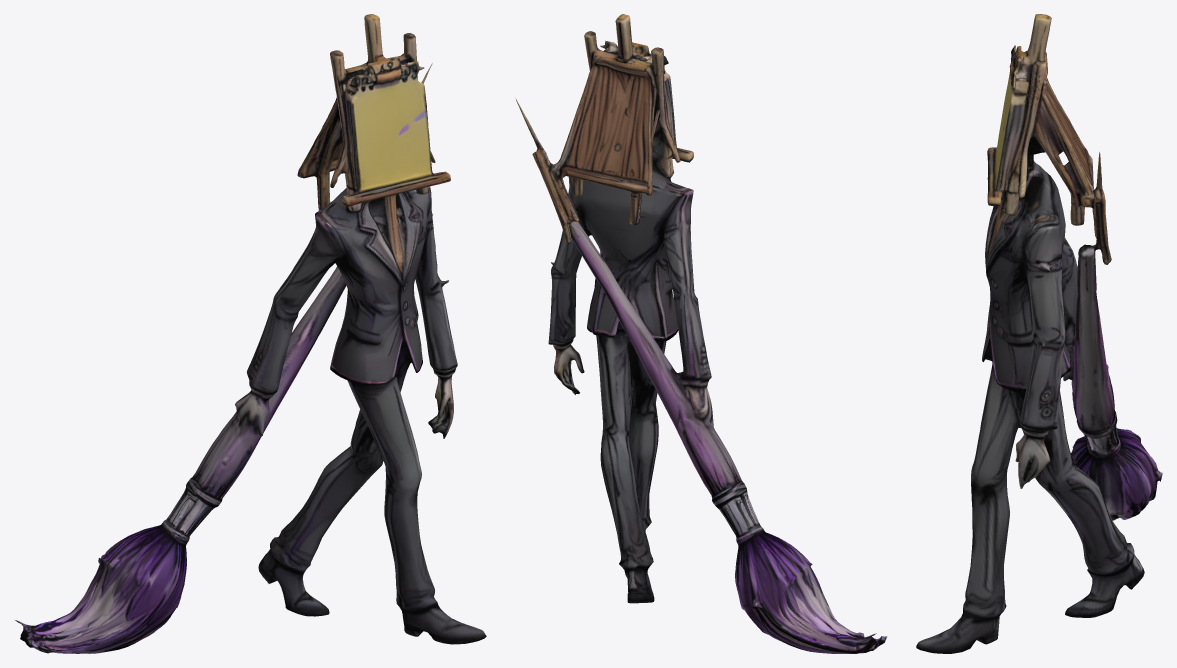
File: Curator_Vance.glb
3 renders of one model, left to right at view 1: azimuth 30°, elevation 25°; view 2: azimuth 150°, elevation 25°; view 3: azimuth 270°, elevation 25°, orthographic. The views are drawn at different scales.
Parts seen in each view (by area): view 1: ArtistCharacter; view 2: ArtistCharacter; view 3: ArtistCharacter.
Part boxes in pixels (x1,y1,x2,y2): ArtistCharacter: (15, 14, 486, 653); ArtistCharacter: (515, 14, 887, 653); ArtistCharacter: (916, 14, 1162, 653).
Bounding box in the file's own units: 1.27 × 1.8 × 0.6508.
Materials: 1 (1 with a texture image).
